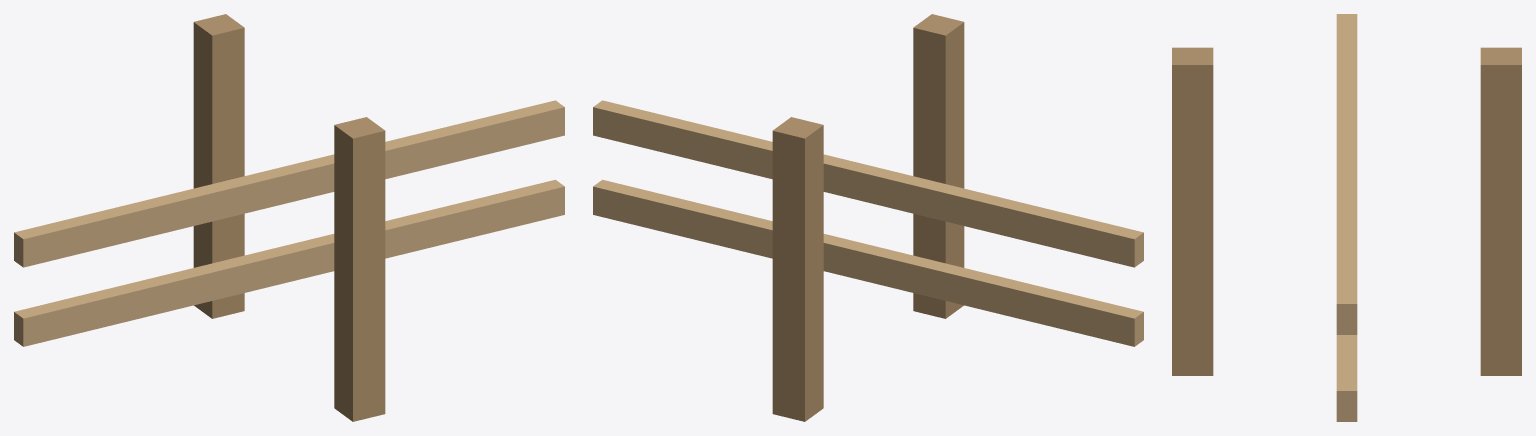
File: SM_Env_Fence_01.glb
The picture shows the model from 3 angles, left to right: view 1: azimuth 30°, elevation 25°; view 2: azimuth 150°, elevation 25°; view 3: azimuth 270°, elevation 25°; orthographic projection. The views are drawn at different scales.
Visible parts, largest first — view 1: SM_Fence_Rail2, SM_Fence_Rail1, SM_Fence_Post_0, SM_Fence_Post_1; view 2: SM_Fence_Rail2, SM_Fence_Rail1, SM_Fence_Post_1, SM_Fence_Post_0; view 3: SM_Fence_Post_0, SM_Fence_Post_1, SM_Fence_Rail1, SM_Fence_Rail2.
Part boxes in pixels (left/top/right/bottom): SM_Fence_Rail2: left=14, top=179, right=564, bottom=346; SM_Fence_Rail1: left=14, top=100, right=564, bottom=267; SM_Fence_Post_0: left=334, top=117, right=385, bottom=421; SM_Fence_Post_1: left=193, top=14, right=244, bottom=318; SM_Fence_Rail2: left=593, top=179, right=1143, bottom=346; SM_Fence_Rail1: left=593, top=100, right=1143, bottom=267; SM_Fence_Post_1: left=772, top=117, right=823, bottom=421; SM_Fence_Post_0: left=913, top=14, right=964, bottom=318; SM_Fence_Post_0: left=1172, top=47, right=1213, bottom=375; SM_Fence_Post_1: left=1480, top=47, right=1521, bottom=375; SM_Fence_Rail1: left=1336, top=14, right=1357, bottom=334; SM_Fence_Rail2: left=1336, top=335, right=1357, bottom=421.
Size of the model in its own units: 2 by 1 by 1.02.
